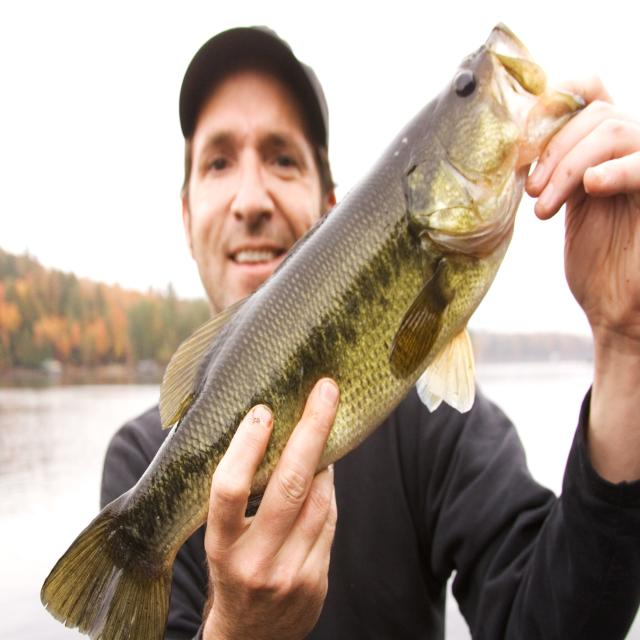Bass - Largemouth: (42, 26, 585, 638)
